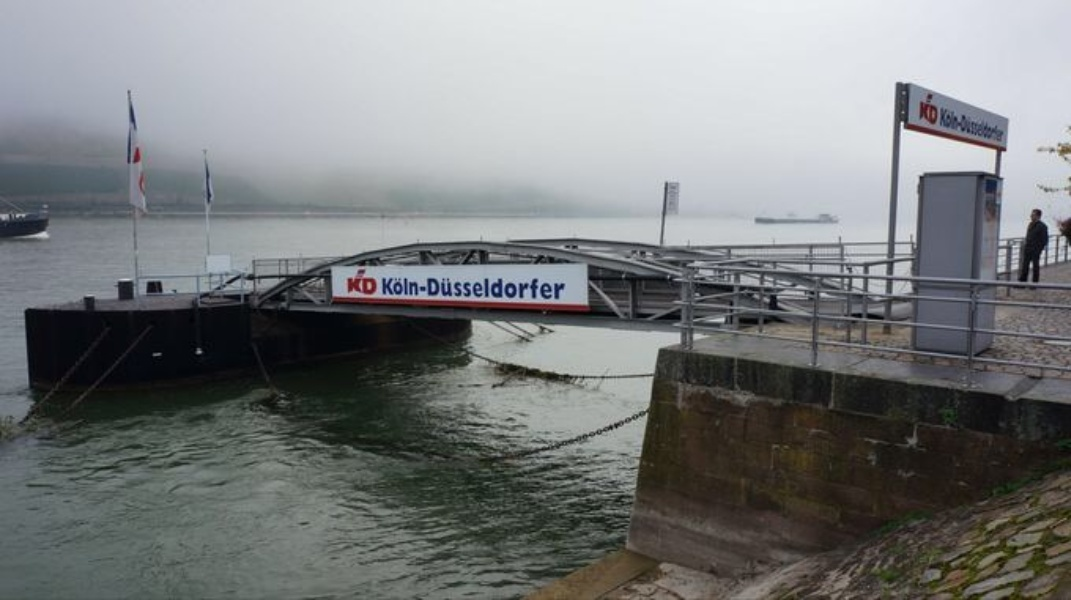text: (945, 106, 960, 144), (961, 106, 976, 144), (977, 106, 992, 144), (993, 106, 1005, 144), (433, 276, 448, 301), (449, 276, 464, 301), (465, 276, 480, 301), (481, 276, 496, 301), (497, 276, 512, 301), (513, 276, 528, 301), (529, 276, 544, 301), (545, 276, 560, 301), (385, 276, 400, 298), (401, 276, 416, 298), (353, 276, 368, 295), (929, 100, 939, 126), (919, 100, 928, 126), (369, 276, 379, 295), (939, 106, 944, 144), (561, 276, 568, 301), (427, 276, 432, 301), (419, 286, 432, 295), (347, 276, 352, 295), (382, 276, 384, 298), (417, 276, 419, 298)
